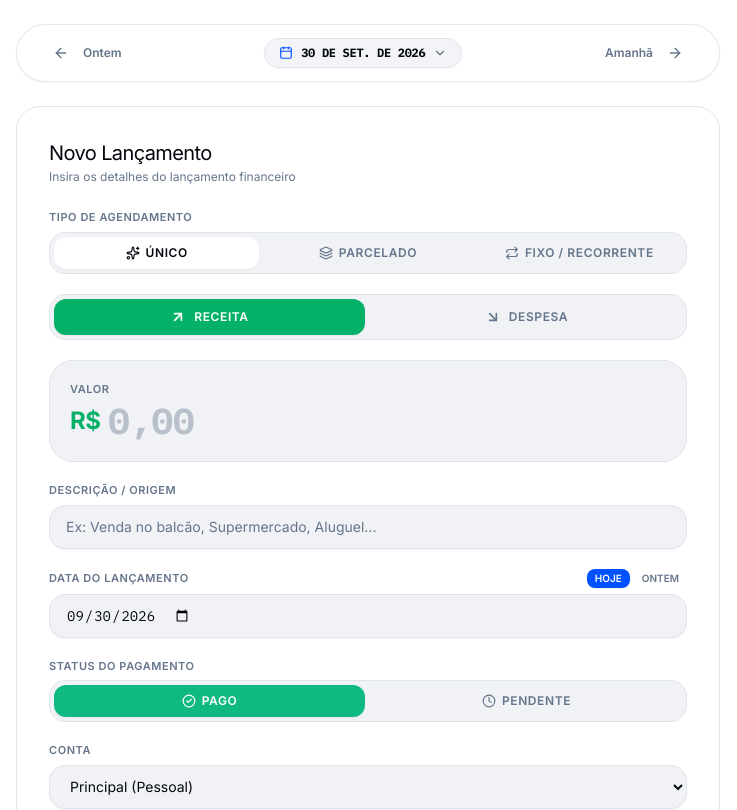
Test case: LancamentosPage.jsx › Preenchimento e Criação de Lançamento › deve exibir toast de erro quando a API createTransacao falhar
Type "50" into the field with placeholder "0,00" at (387, 421), box top-left (108, 401), bottom-right (666, 441)
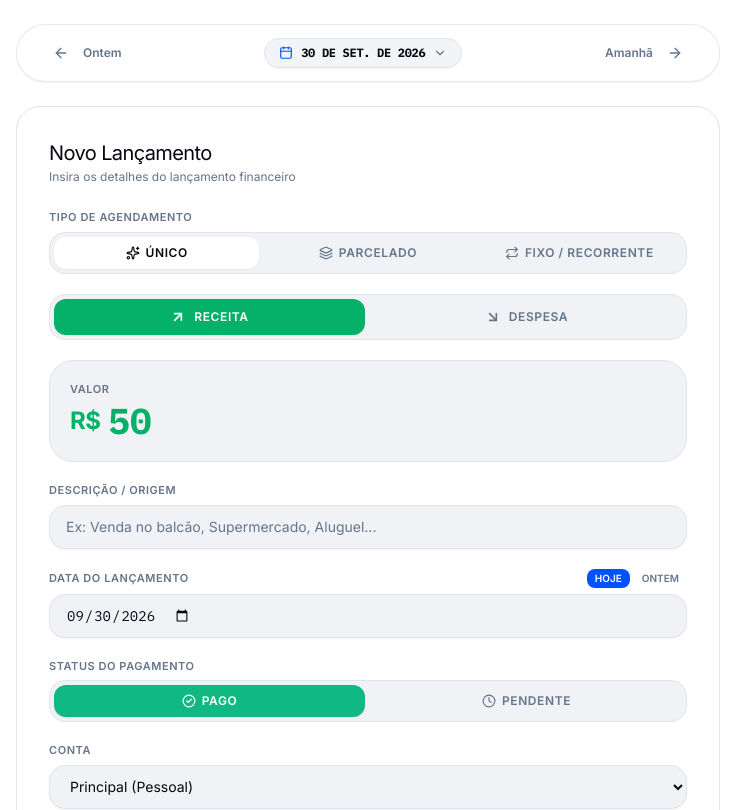
Type "Teste falha" into the field with placeholder "Ex: Venda no balcão, Supermercado, Aluguel..." at (368, 526), box top-left (49, 504), bottom-right (687, 548)
(page scrolled)
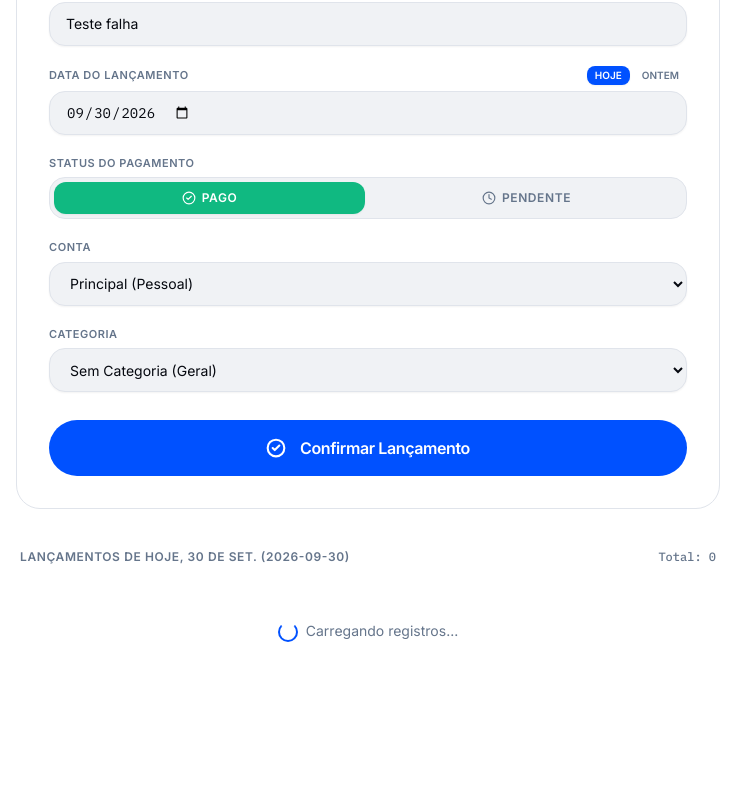
Click the button "Confirmar Lançamento" at (368, 448), box top-left (49, 420), bottom-right (687, 476)
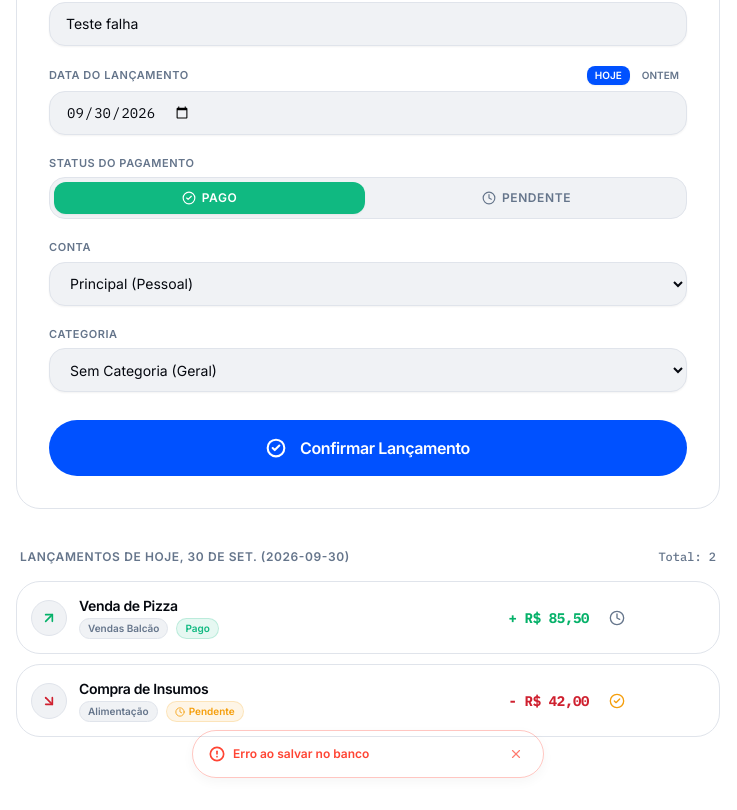
Check: the text "Erro ao salvar no banco" is shown, box top-left (233, 746), bottom-right (369, 762)
